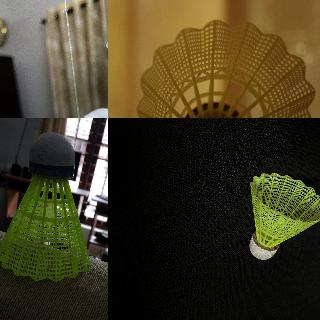shuttlecock: (137, 19, 316, 117), (0, 132, 90, 282), (249, 173, 319, 260)
